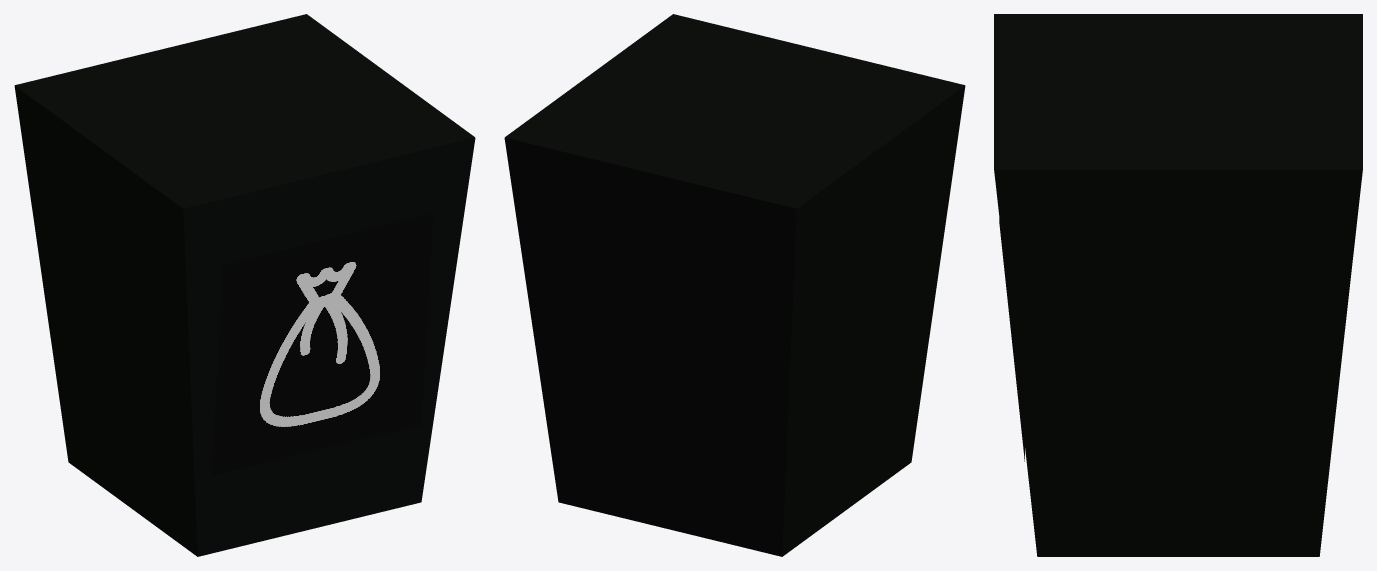
Rendered from MixedTrash.fbx.
The picture shows the model from 3 angles, left to right: view 1: azimuth 30°, elevation 25°; view 2: azimuth 150°, elevation 25°; view 3: azimuth 270°, elevation 25°; orthographic projection. The views are drawn at different scales.
Parts seen in each view (by area): view 1: MixedTrash, mixed; view 2: MixedTrash; view 3: MixedTrash.
Boxes of the visible parts, x1,y1,x2,y2 form: MixedTrash: (14, 14, 475, 556); mixed: (211, 213, 433, 475); MixedTrash: (504, 14, 965, 556); MixedTrash: (994, 14, 1362, 556).
Bounding box in the file's own units: 41.17 × 49.93 × 41.17.
2 materials, 1 textured.
